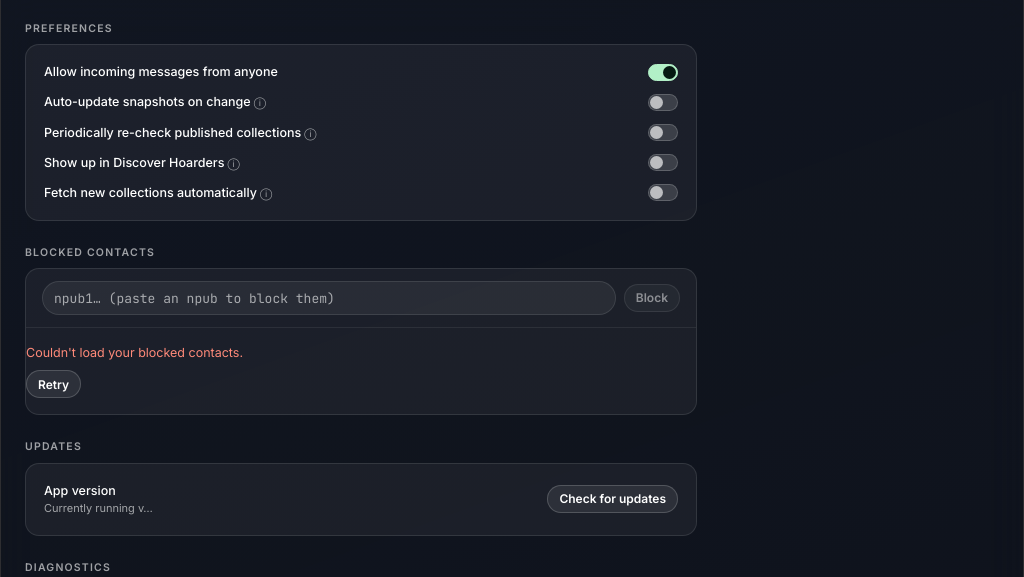
minor-5 — a failed blocked-list load renders an error state, not a confident empty › Retry: reject → resolve → rows render and the error is gone
(page scrolled)
Step 1. Click the button "Retry" → (54, 384), box [26, 370, 81, 398]
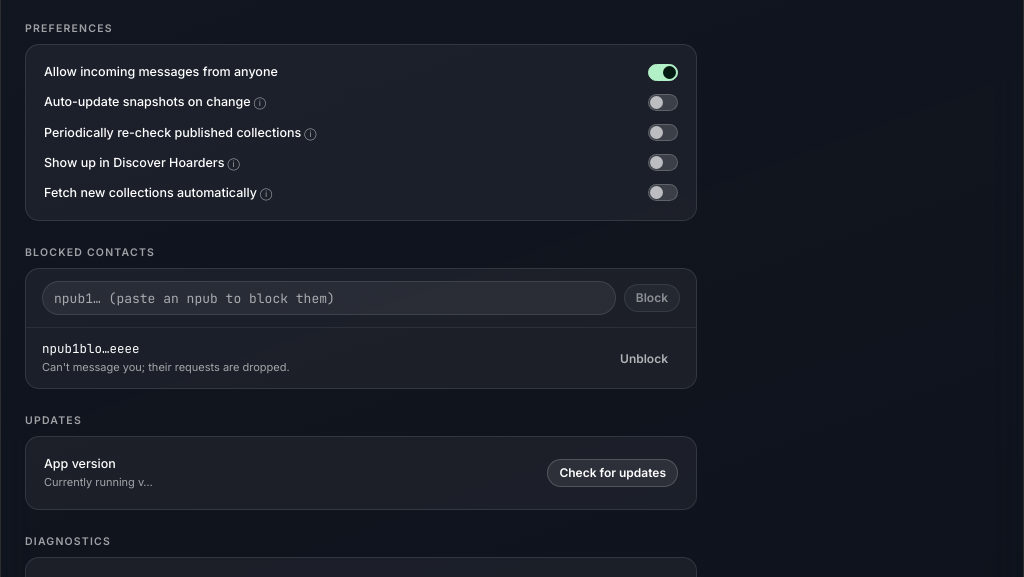
Expected: the message "Couldn't load your blocked contacts. Retry" is gone
